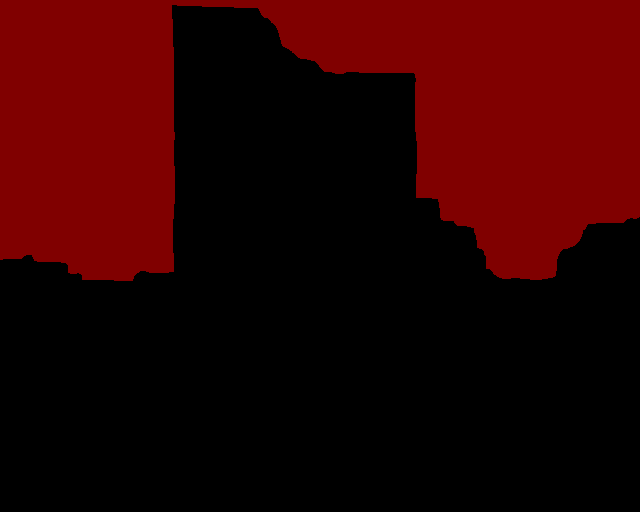Sky: (1, 1, 639, 280)
